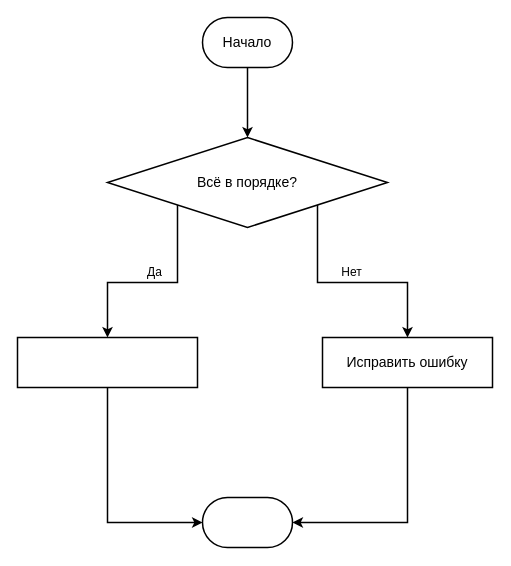
The diagram is 511 pixels wide and 566 high, and some of its shapes have lost their labels. Each missing label, with the centre of its shape:
Конец: the point at 247,522
Продолжить работу: the point at 107,362
